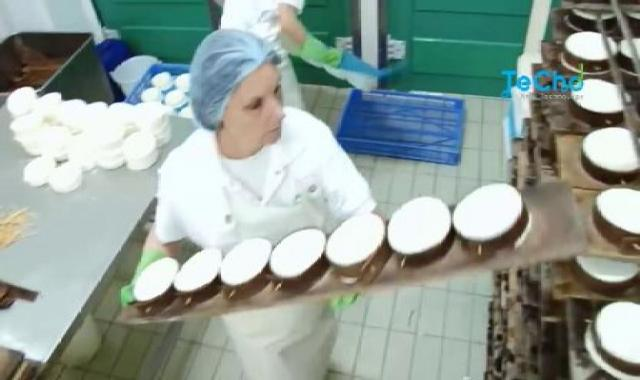hairnet: (190, 31, 297, 131)
